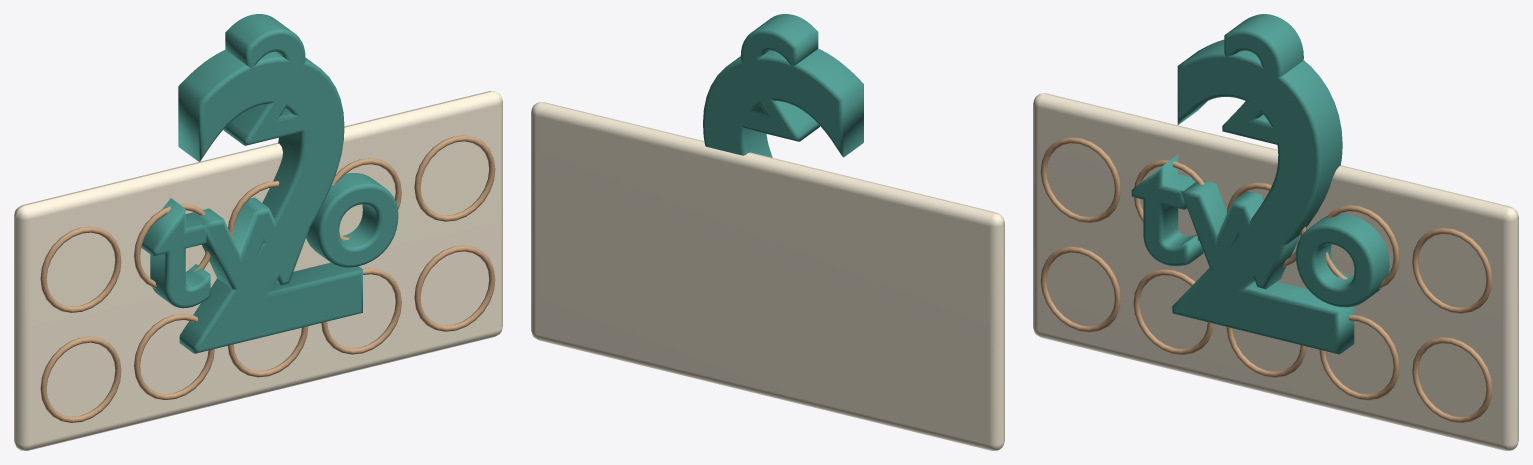
Rendered from number-2.glb.
3 views of the same model, side by side, from view 1: azimuth 30°, elevation 25°; view 2: azimuth 150°, elevation 25°; view 3: azimuth 330°, elevation 25° (orthographic). The views are drawn at different scales.
Visible parts, largest first — view 1: ten frame tray, number solid, number word, counting numeral, counting slot.009, counting slot.004, counting slot, counting slot.005, counting slot.006, counting slot.008, counting slot.001, counting slot.007 (+2 smaller); view 2: ten frame tray, number solid, counting numeral; view 3: ten frame tray, number solid, number word, counting numeral, counting slot.009, counting slot.005, counting slot, counting slot.004, counting slot.006, counting slot.008, counting slot.003, counting slot.007 (+1 smaller).
Boxes of the visible parts, x1,y1,x2,y2 form: ten frame tray: [14, 91, 502, 450]; number solid: [178, 50, 362, 353]; number word: [141, 173, 398, 308]; counting numeral: [223, 14, 310, 145]; counting slot.009: [414, 245, 495, 331]; counting slot.004: [414, 135, 495, 221]; counting slot: [40, 226, 121, 312]; counting slot.005: [40, 336, 121, 422]; counting slot.006: [134, 314, 214, 399]; counting slot.008: [321, 268, 401, 354]; counting slot.001: [134, 203, 210, 288]; counting slot.007: [228, 326, 308, 377]; ten frame tray: [531, 102, 1004, 450]; number solid: [703, 48, 863, 157]; counting numeral: [740, 14, 819, 141]; ten frame tray: [1033, 93, 1518, 450]; number solid: [1172, 39, 1354, 354]; number word: [1131, 154, 1389, 307]; counting numeral: [1222, 14, 1303, 144]; counting slot.009: [1412, 337, 1492, 422]; counting slot.005: [1040, 246, 1120, 332]; counting slot: [1040, 137, 1120, 222]; counting slot.004: [1412, 228, 1492, 313]; counting slot.006: [1133, 269, 1213, 354]; counting slot.008: [1319, 314, 1399, 400]; counting slot.003: [1326, 205, 1399, 289]; counting slot.007: [1226, 327, 1306, 377].
Size of what is drawn, in the model's own units: 2.08 by 1.55 by 0.2.
